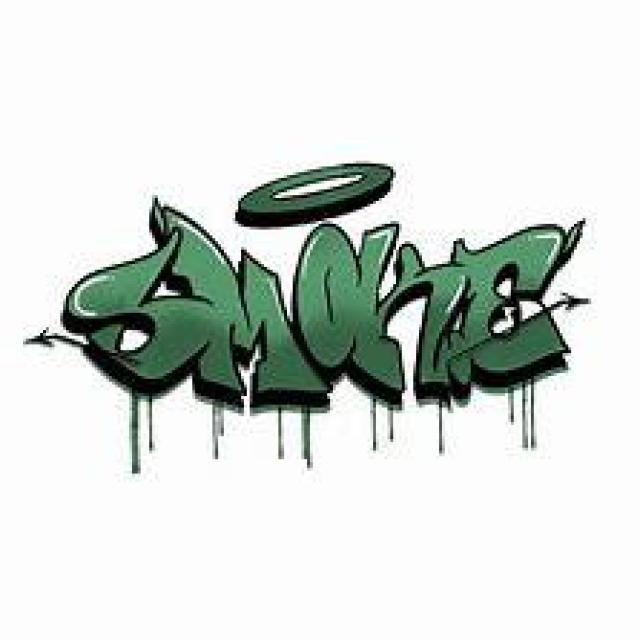nonspitting: (23, 158, 590, 474)
